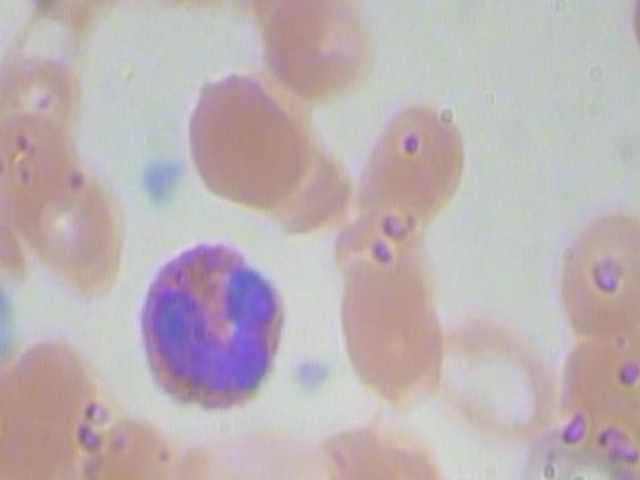Platelets: (142, 154, 185, 206), (289, 354, 336, 399)
RBC: (175, 65, 314, 211), (427, 306, 559, 444), (343, 91, 469, 232), (15, 151, 140, 293), (333, 257, 446, 397), (553, 325, 640, 480), (249, 0, 377, 100), (554, 205, 640, 346), (0, 48, 85, 164), (71, 405, 196, 480), (26, 0, 129, 17), (360, 0, 503, 1)
WBC: (132, 240, 296, 415)
